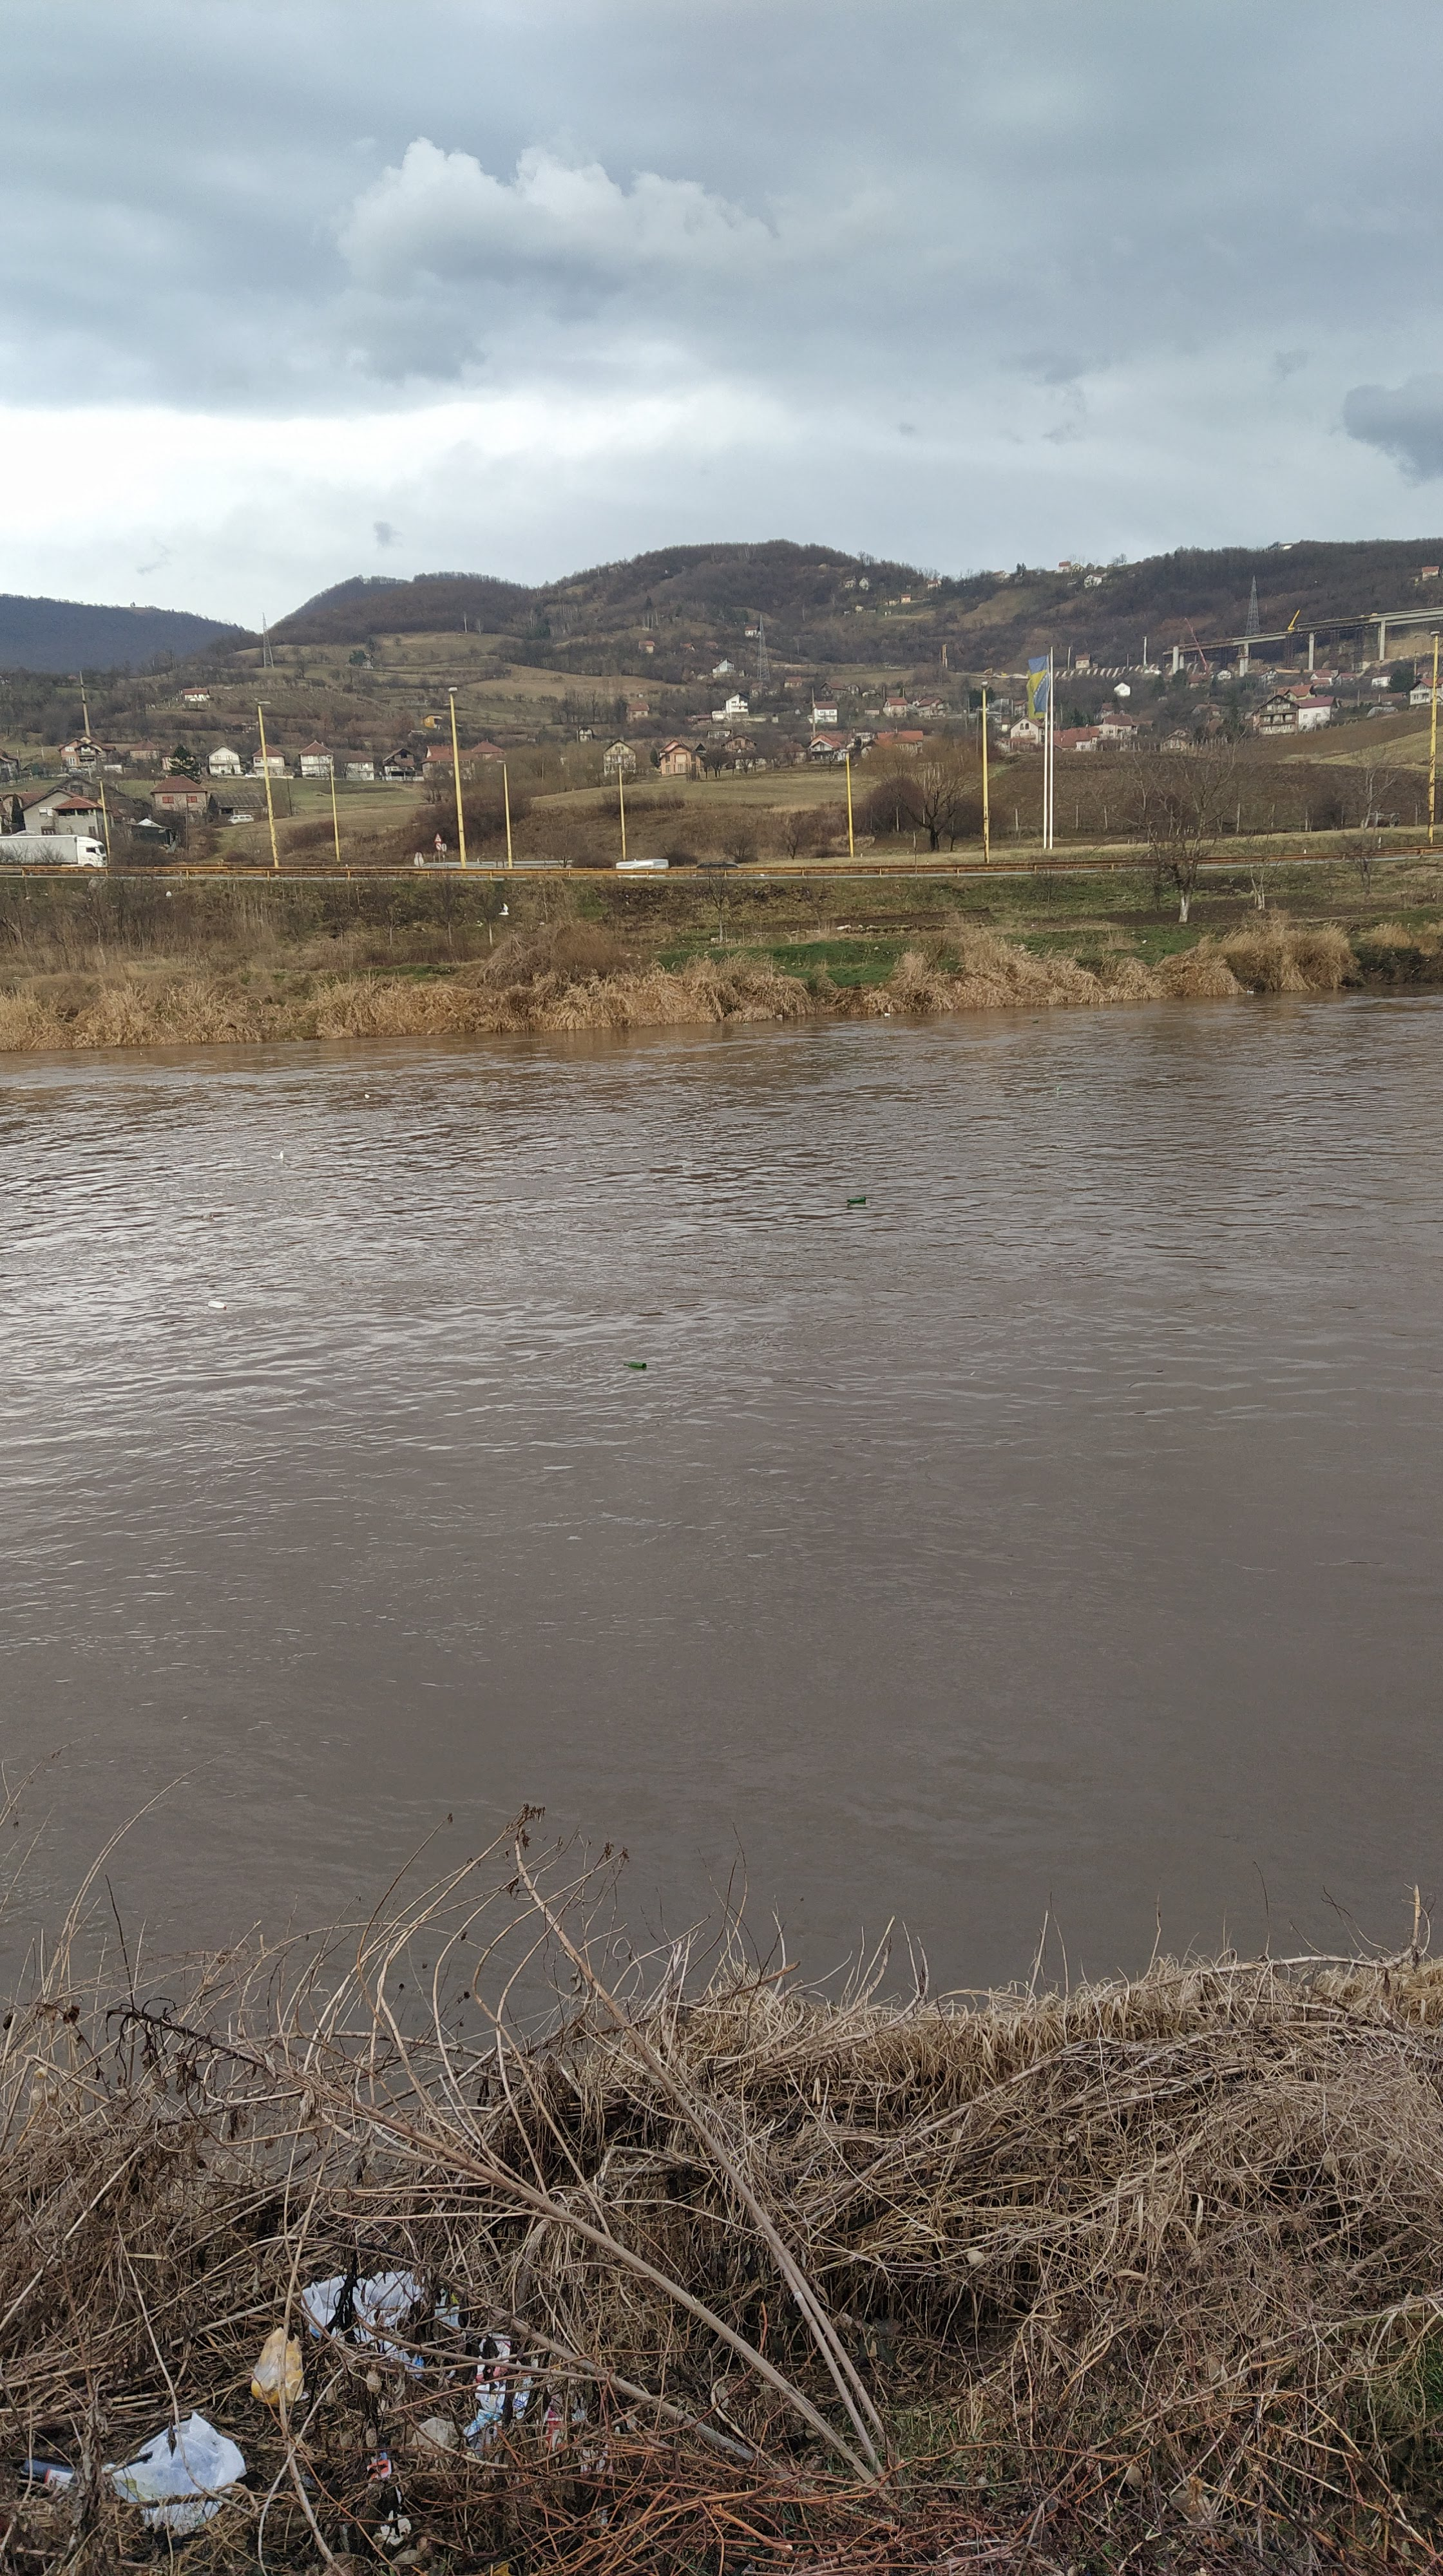Plastic Bottle: (207, 1300, 227, 1309), (625, 1361, 646, 1368), (848, 1196, 866, 1201), (1055, 1086, 1061, 1090), (365, 1095, 368, 1099), (1032, 1021, 1038, 1023), (885, 1014, 889, 1016)
